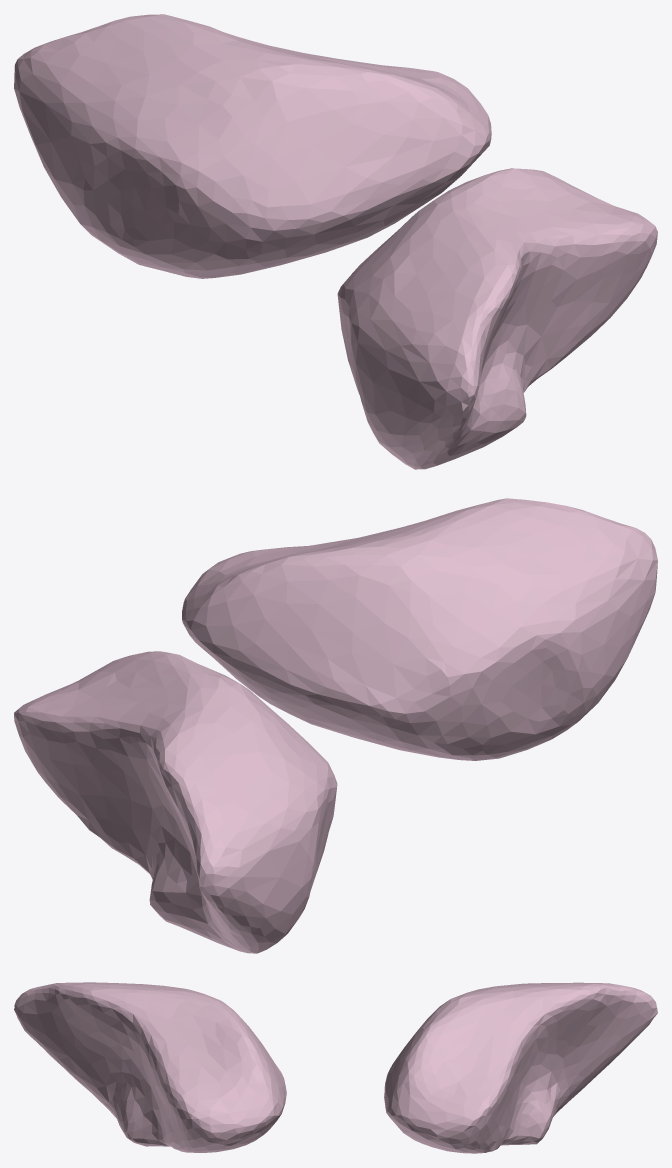
The picture shows the model from 3 angles, top to bottom: view 1: azimuth 30°, elevation 25°; view 2: azimuth 150°, elevation 25°; view 3: azimuth 270°, elevation 25°; orthographic projection. The views are drawn at different scales.
Visible parts, largest first — view 1: 202.obj; view 2: 202.obj; view 3: 202.obj.
Part boxes in pixels (x1,y1,x2,y2): 202.obj: (14,14,657,469); 202.obj: (14,498,657,953); 202.obj: (14,982,657,1153).
Size of the model in its own units: 1679 by 1030 by 3797.
